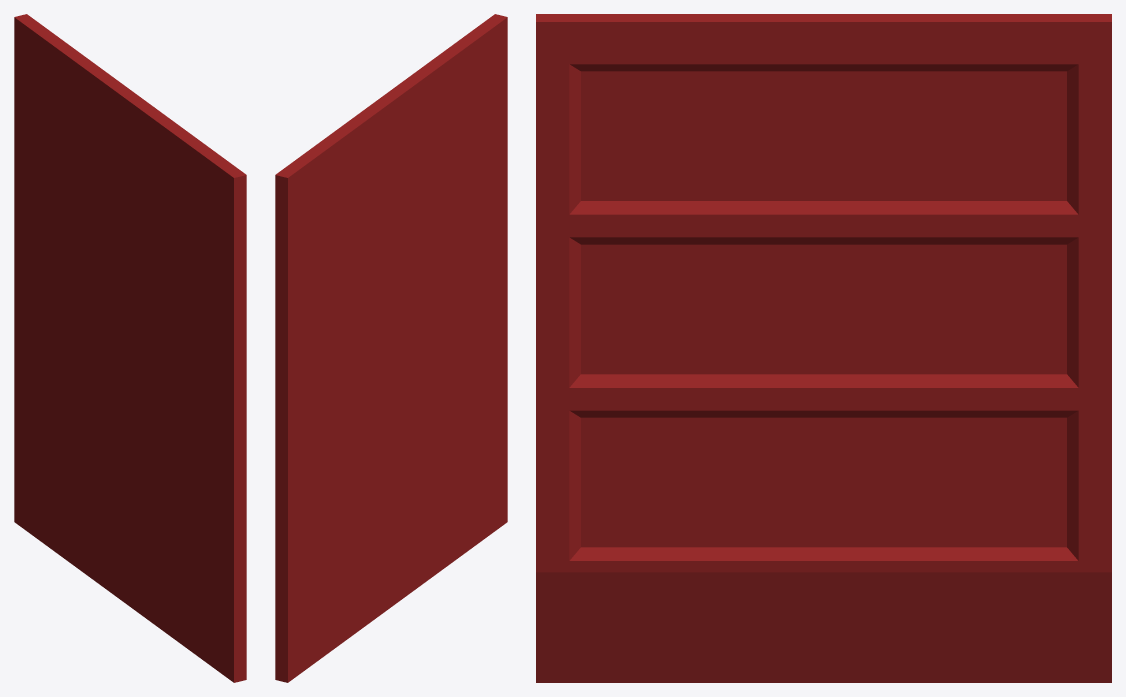
File: Cabin-Door1.fbx
3 renders of one model, left to right at view 1: azimuth 30°, elevation 25°; view 2: azimuth 150°, elevation 25°; view 3: azimuth 270°, elevation 25°, orthographic. The views are drawn at different scales.
Visible parts, largest first — view 1: Cabin-Door1; view 2: Cabin-Door1; view 3: Cabin-Door1.
Part boxes in pixels (x1,y1,x2,y2): Cabin-Door1: [14, 14, 246, 682]; Cabin-Door1: [275, 14, 507, 682]; Cabin-Door1: [536, 14, 1111, 682].
Bounding box in the file's own units: 0.05 × 1.9 × 1.5.
1 material, 1 textured.
